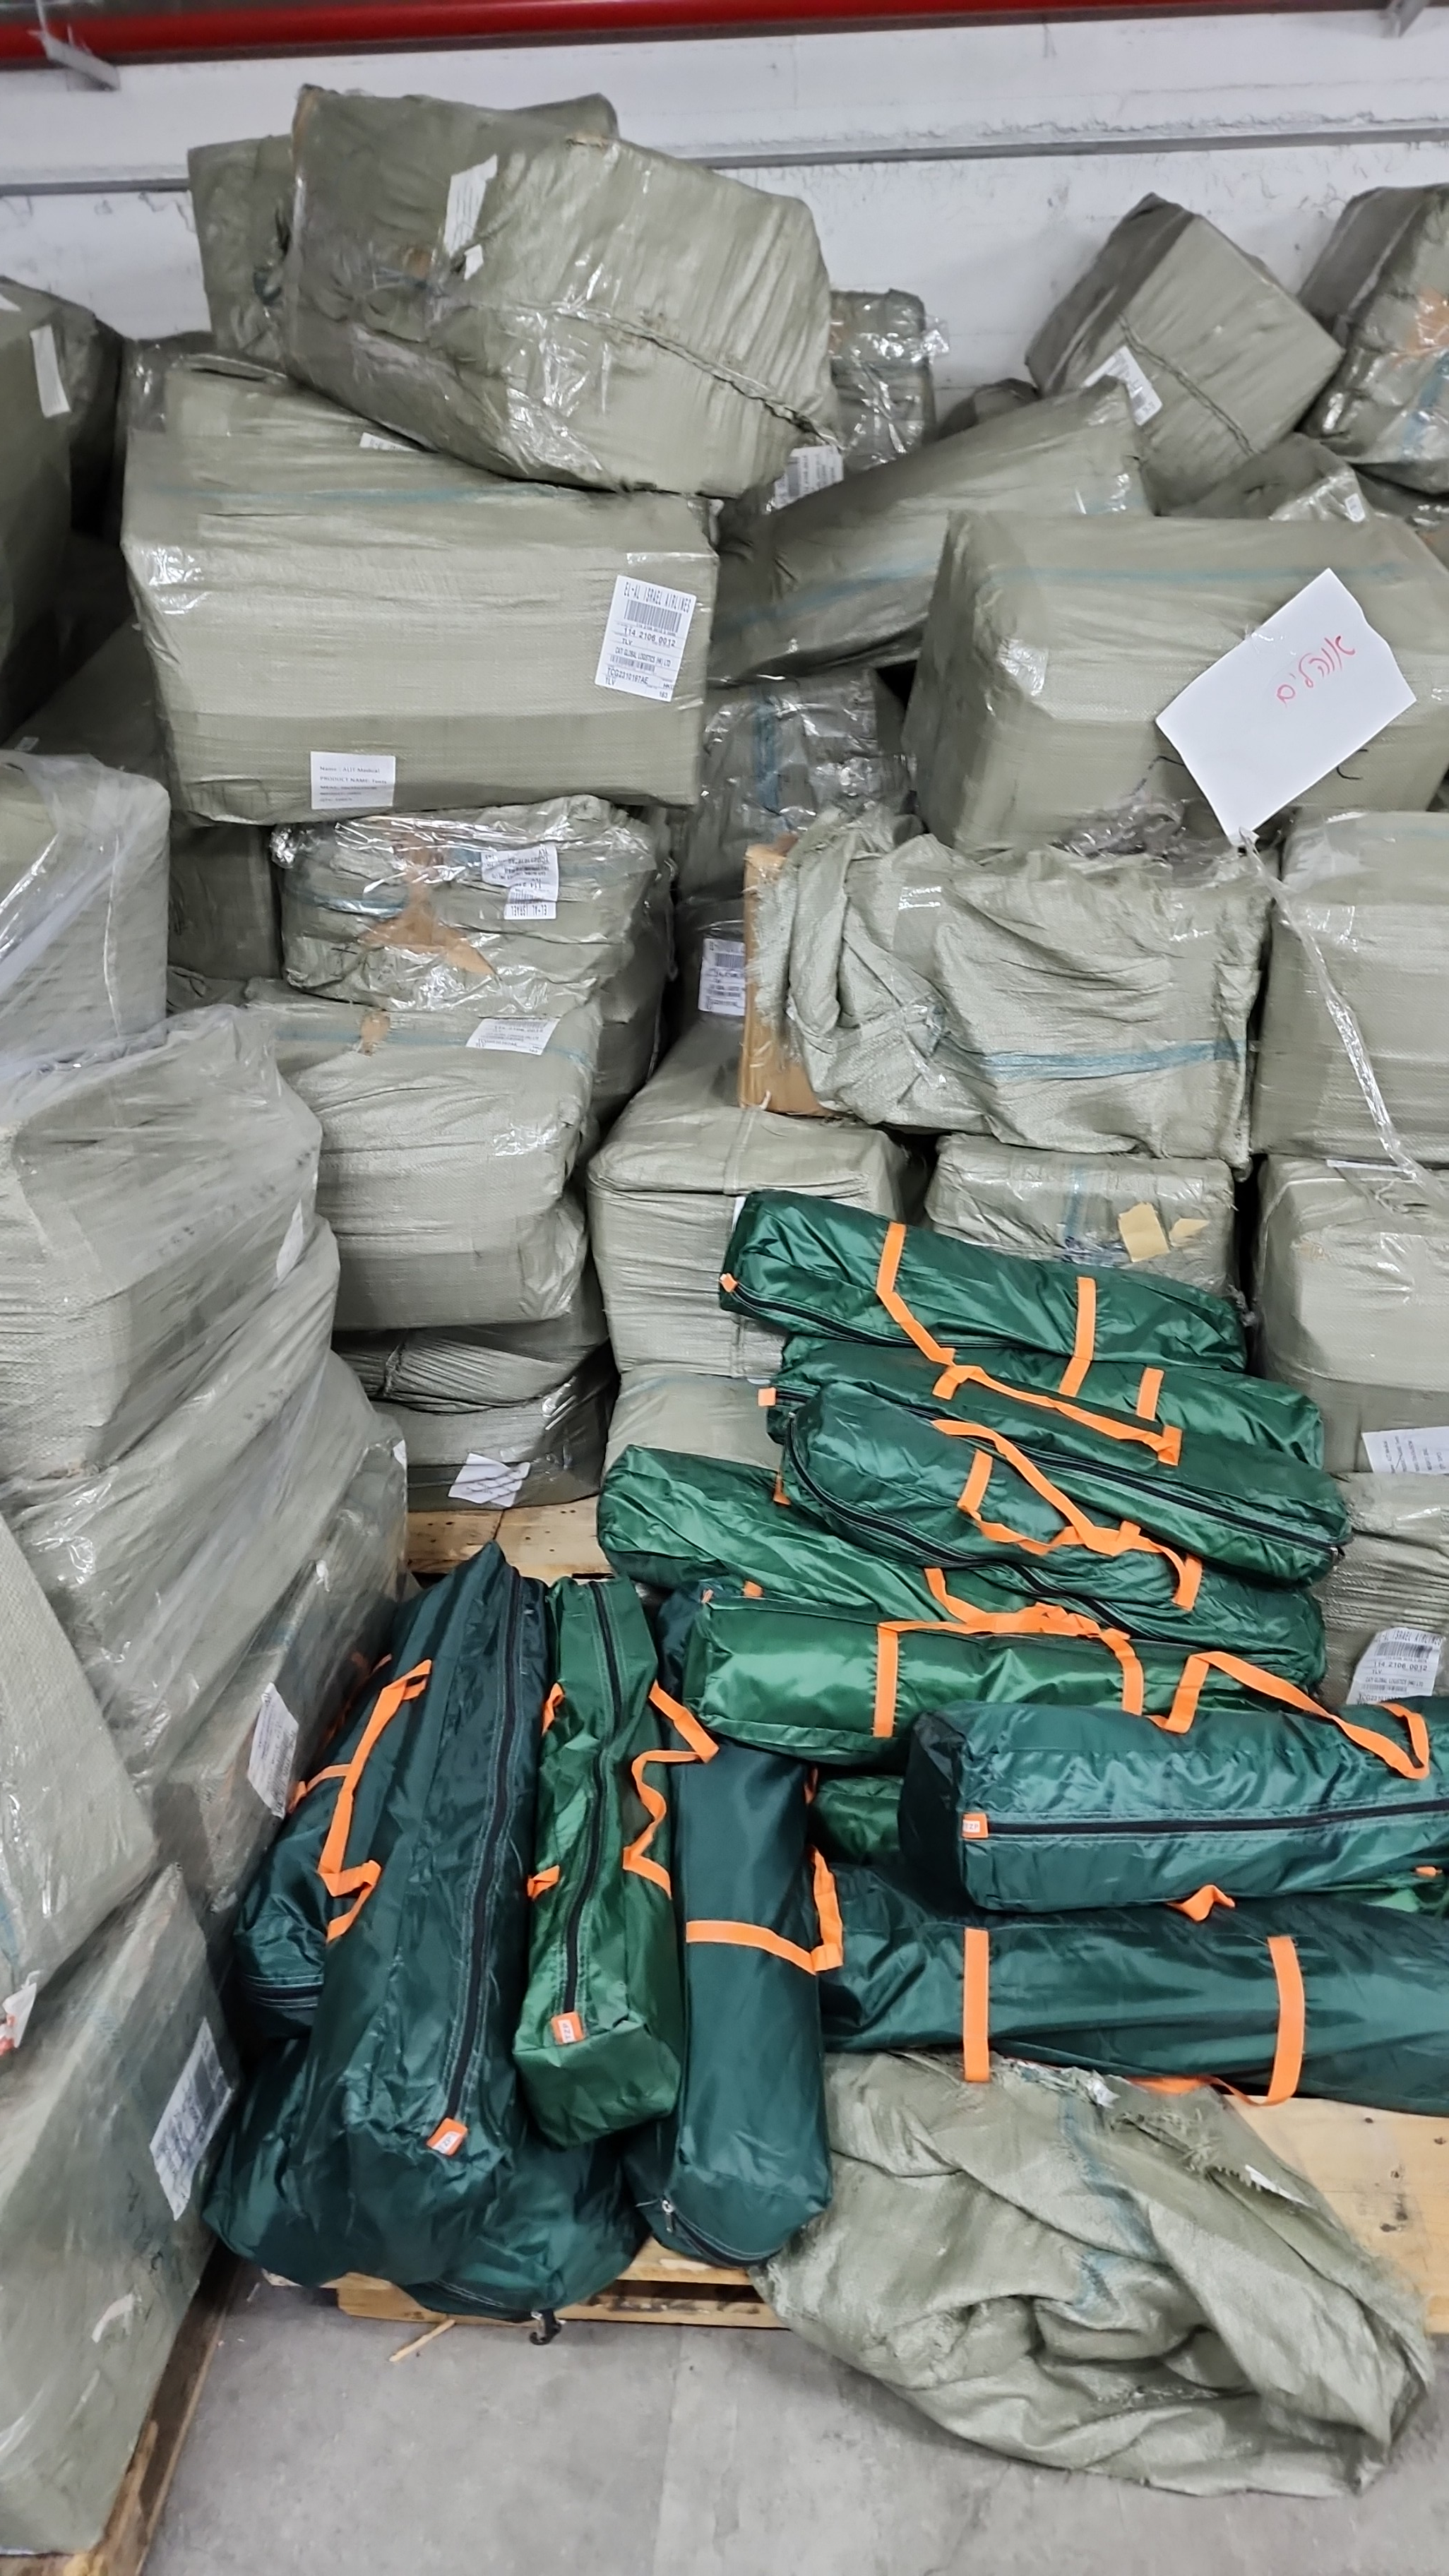box: (87, 326, 812, 869), (262, 35, 876, 522), (741, 812, 1284, 1180), (945, 448, 1428, 830), (340, 1001, 580, 1329)
other: (741, 1336, 1329, 1649), (816, 1907, 1433, 2146), (879, 1697, 1449, 1937), (637, 1734, 856, 2254), (727, 1201, 1269, 1380), (515, 1532, 656, 2135), (380, 1518, 499, 2173)
